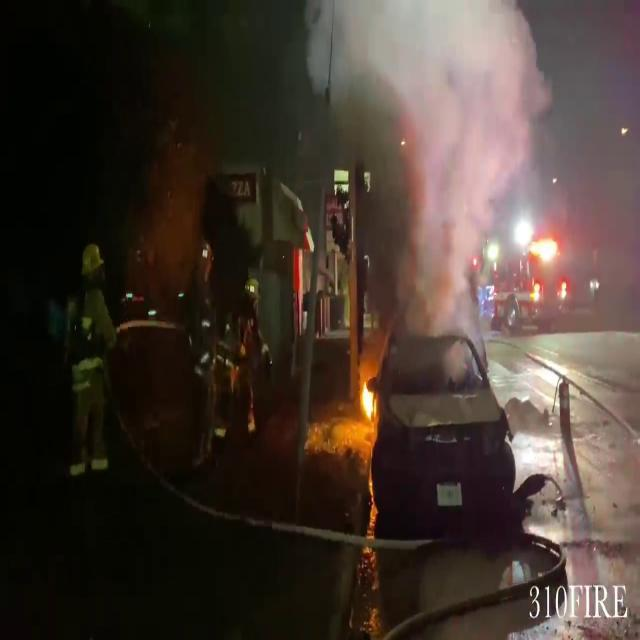Fire: (358, 368, 378, 428)
Smoke: (316, 0, 582, 356)
